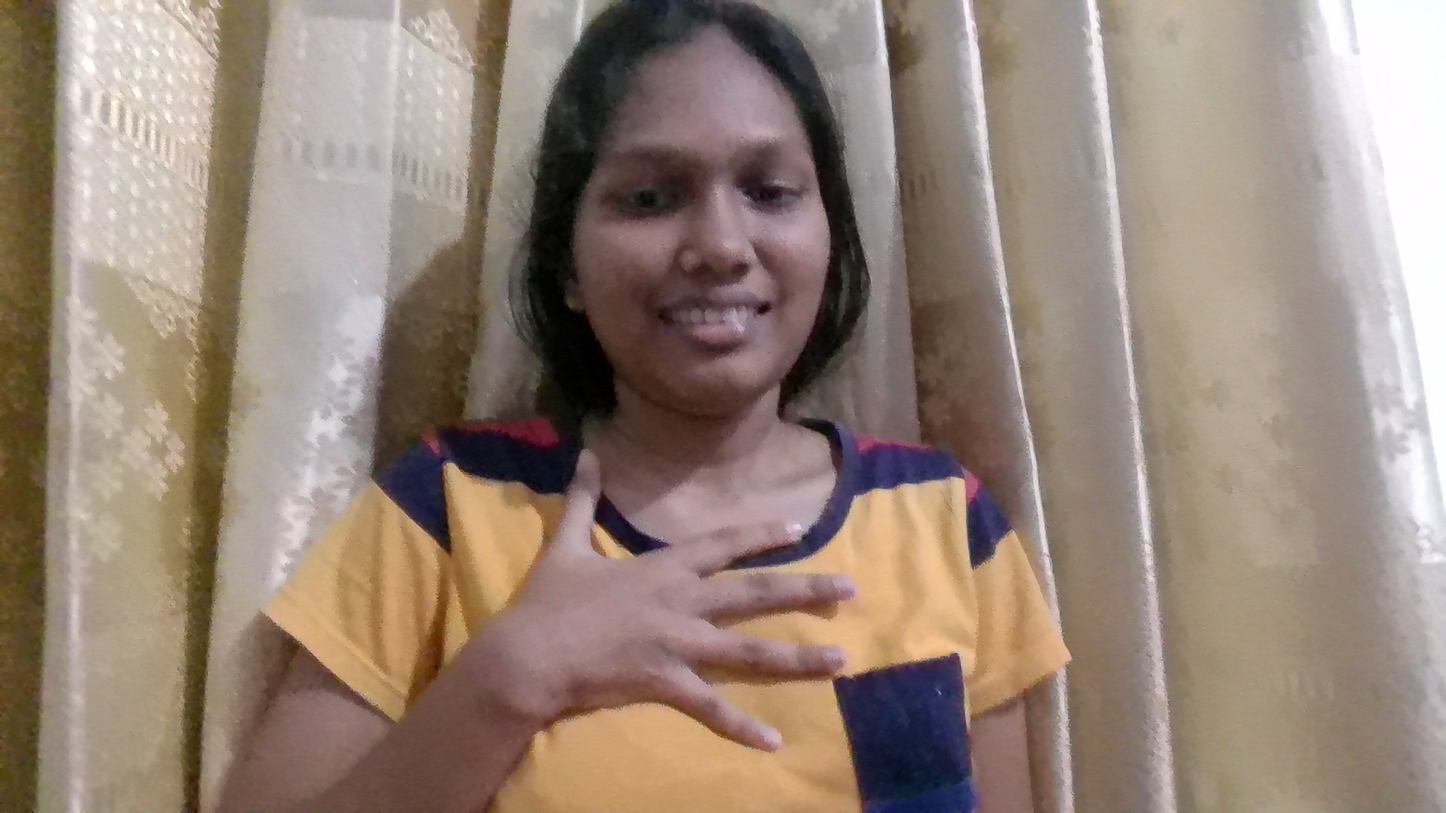Please: (516, 447, 909, 757)
